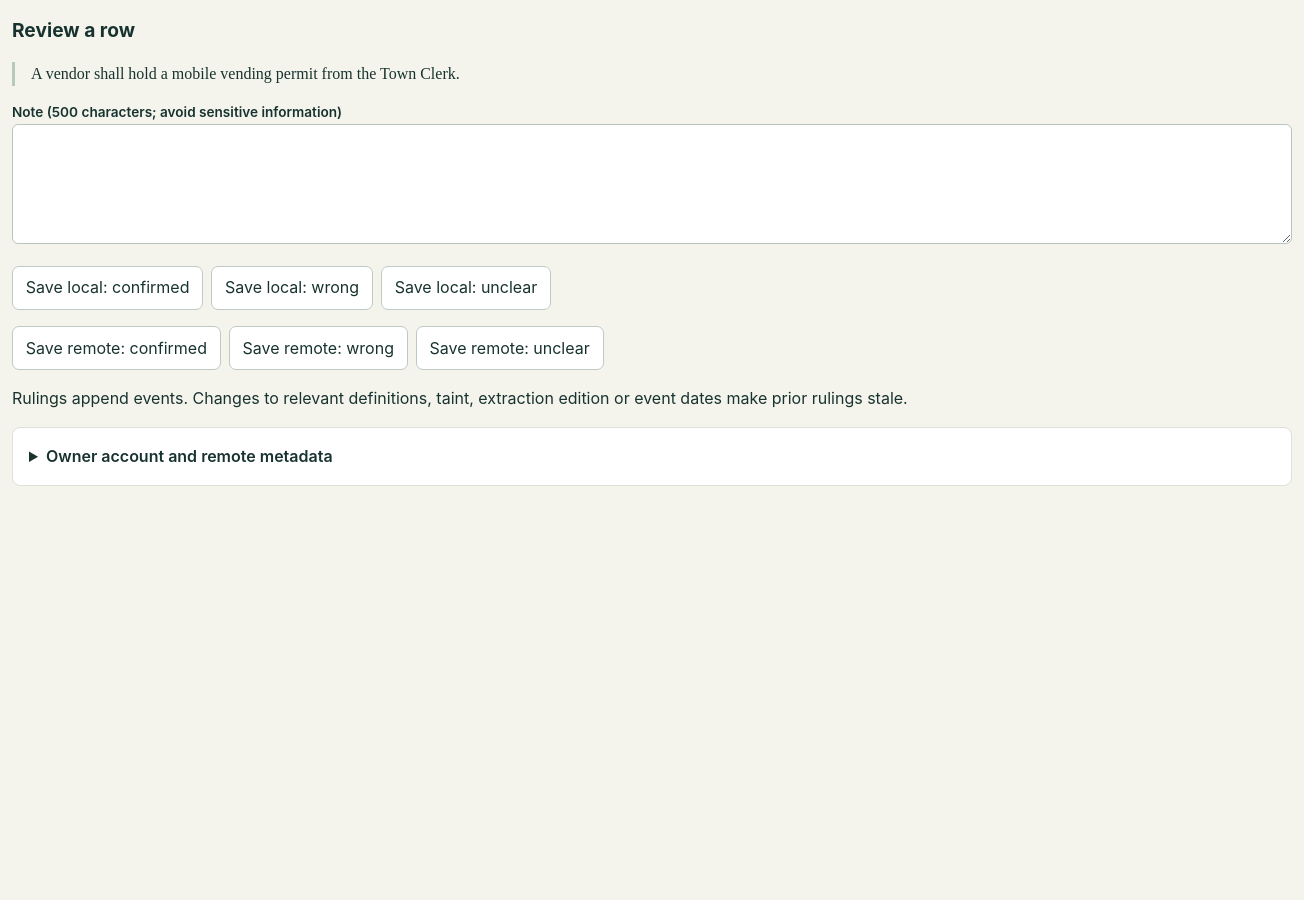
remote ruling snapshots (authored, not executed) › REMOTE-SIGNOUT: signing out clears the loaded metadata snapshot
Click the heading "Owner account and remote metadata": (189,456) 46,446 -> 333,466
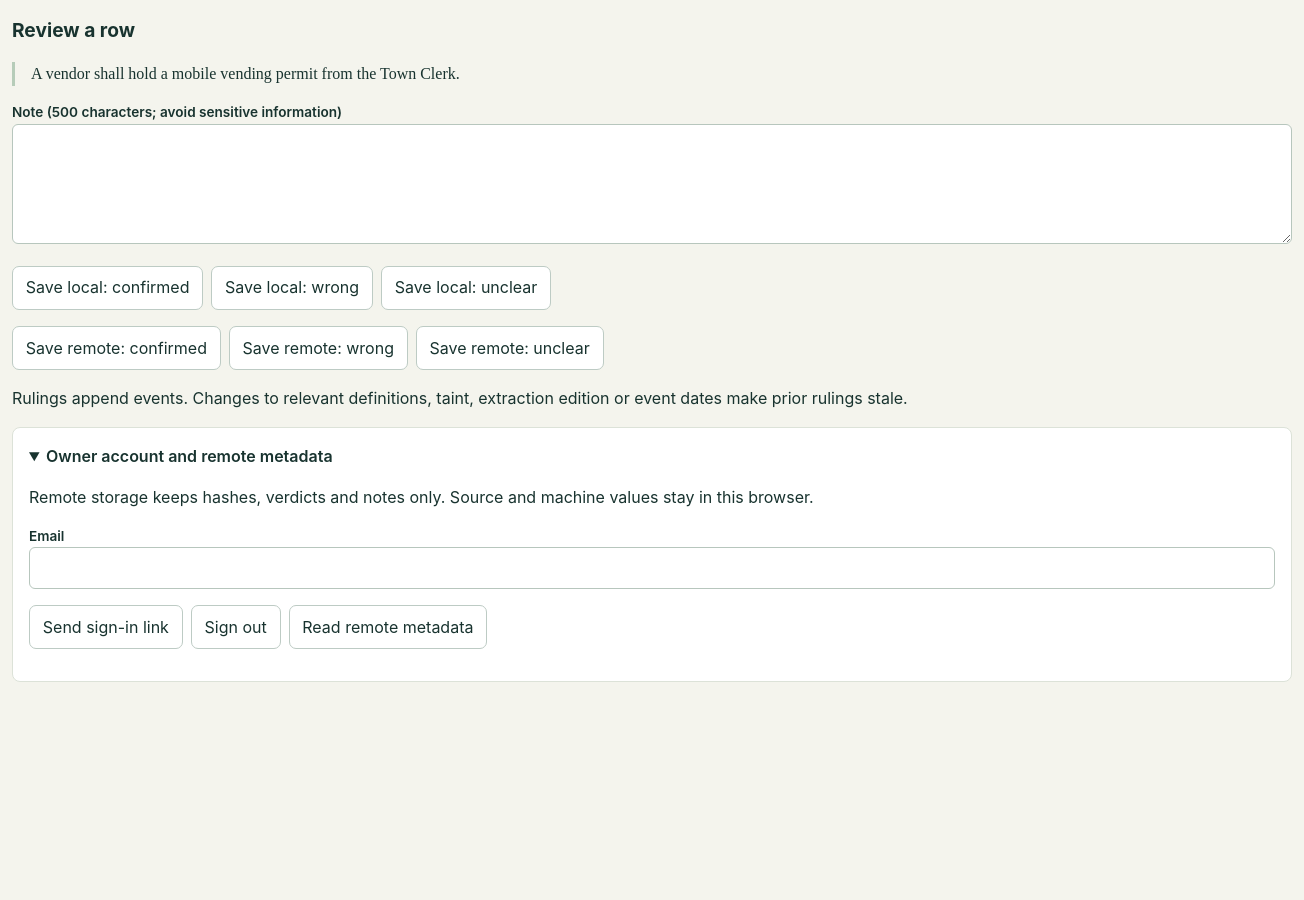
Click the button "Read remote metadata": (388,627) 288,605 -> 487,650
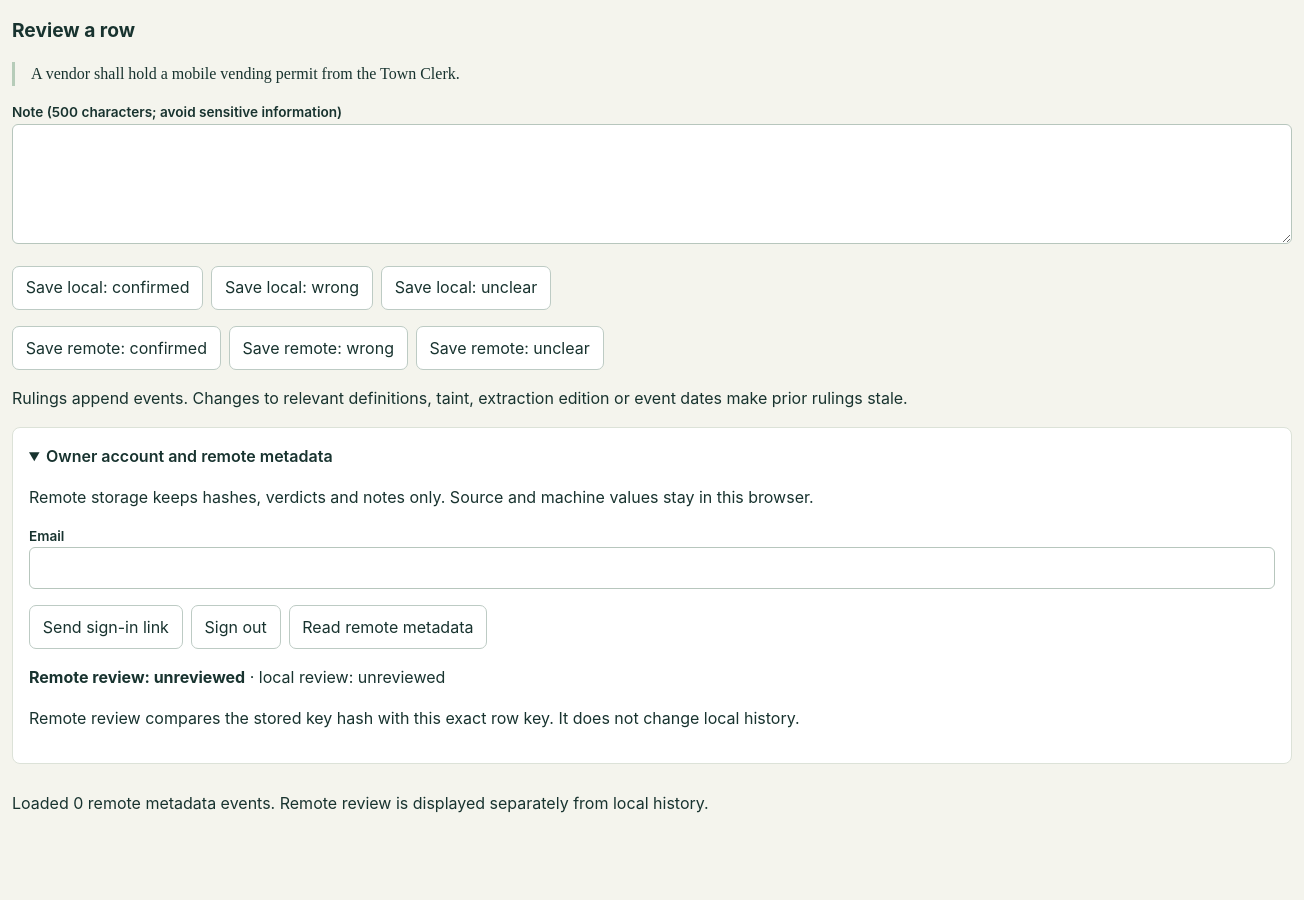
Check: the text "Remote review: unreviewed" is shown, box 29,668 -> 245,688
Click the button "Sign out": (236,627) 191,605 -> 280,650
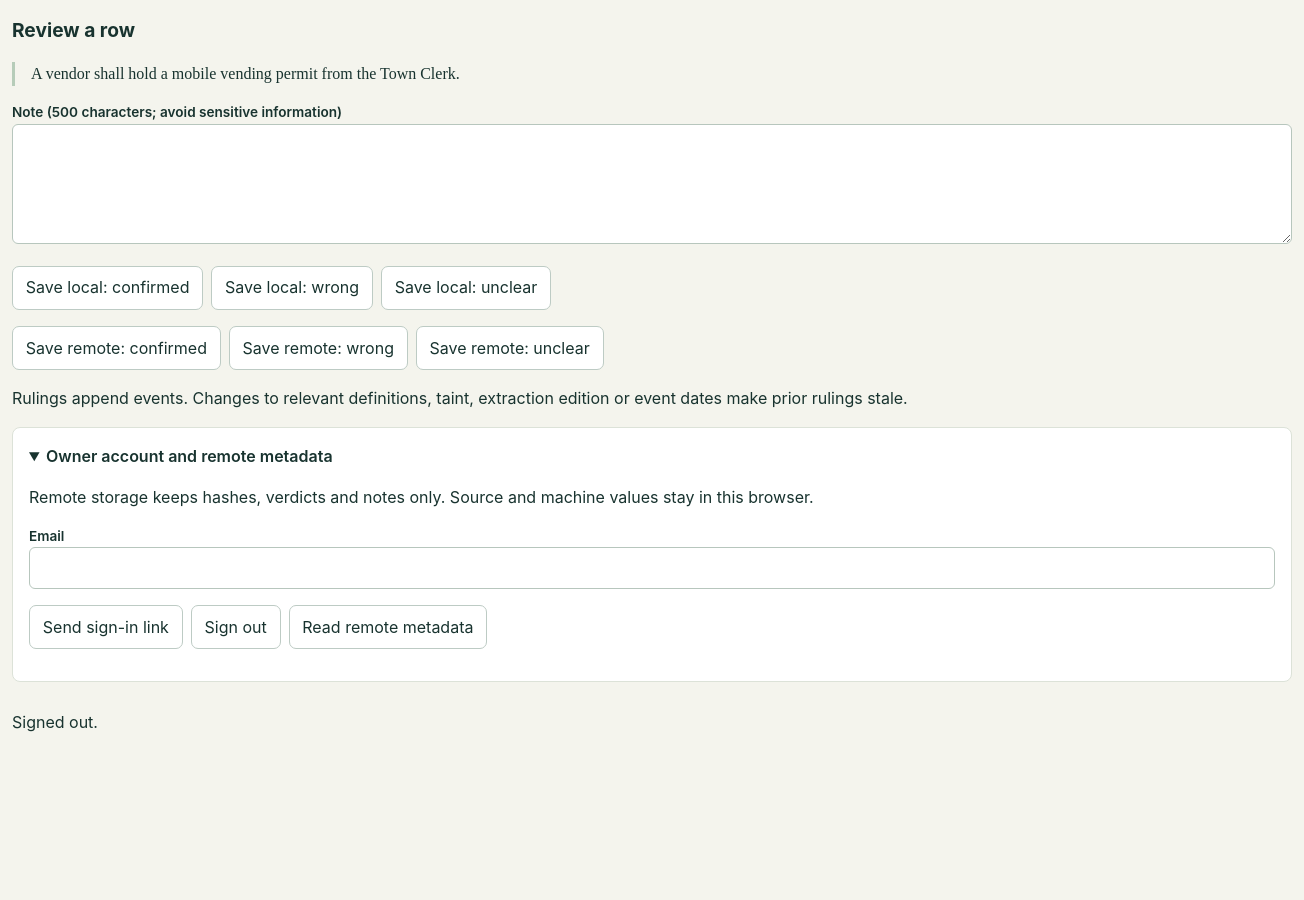
Check: the text "Remote review: unreviewed" is gone
